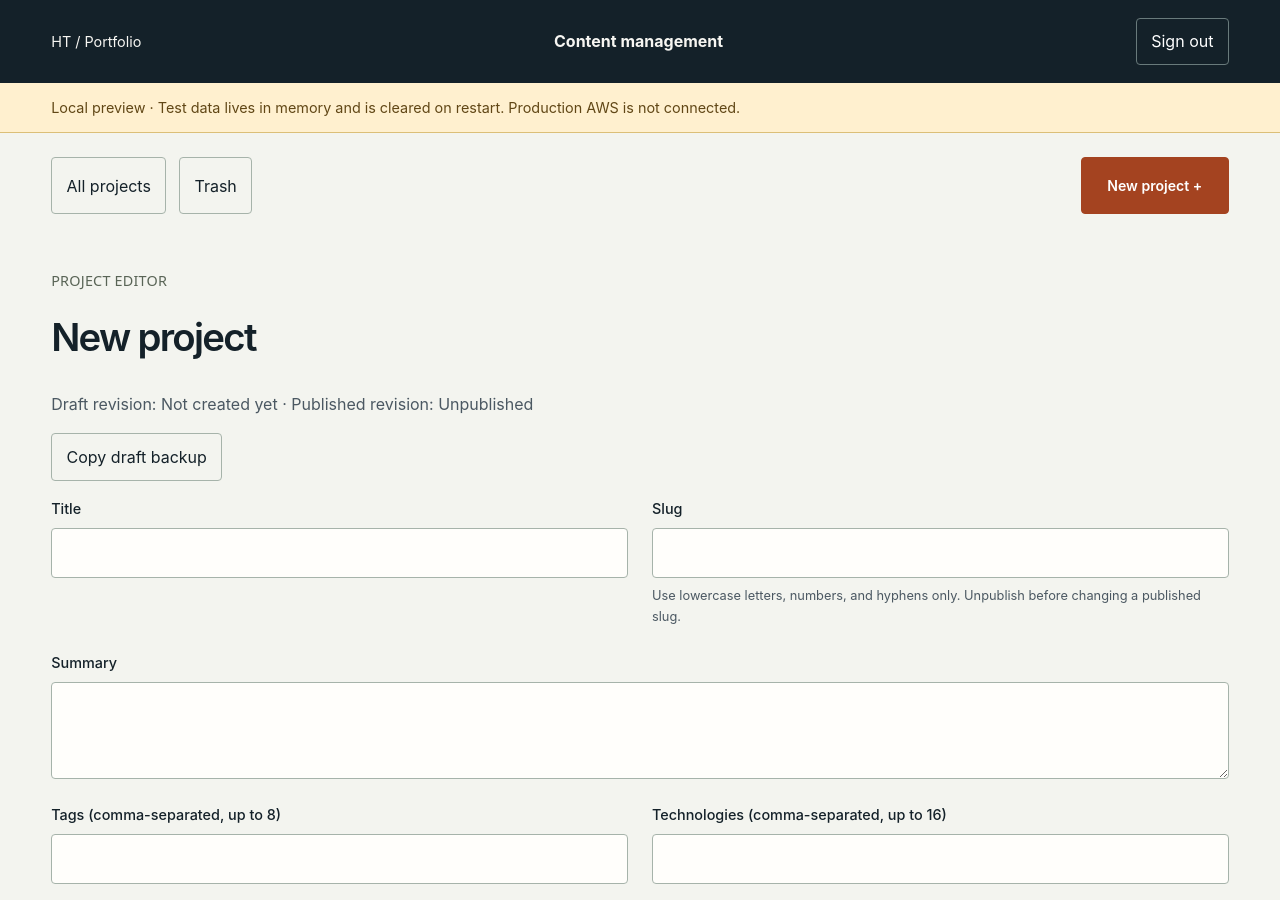
Test: locks fields during an in-flight save
The image size is (1280, 900).
Type "Pending draft" into the field labelled "Title" at (340, 553), box [51,528,628,578]
(page scrolled)
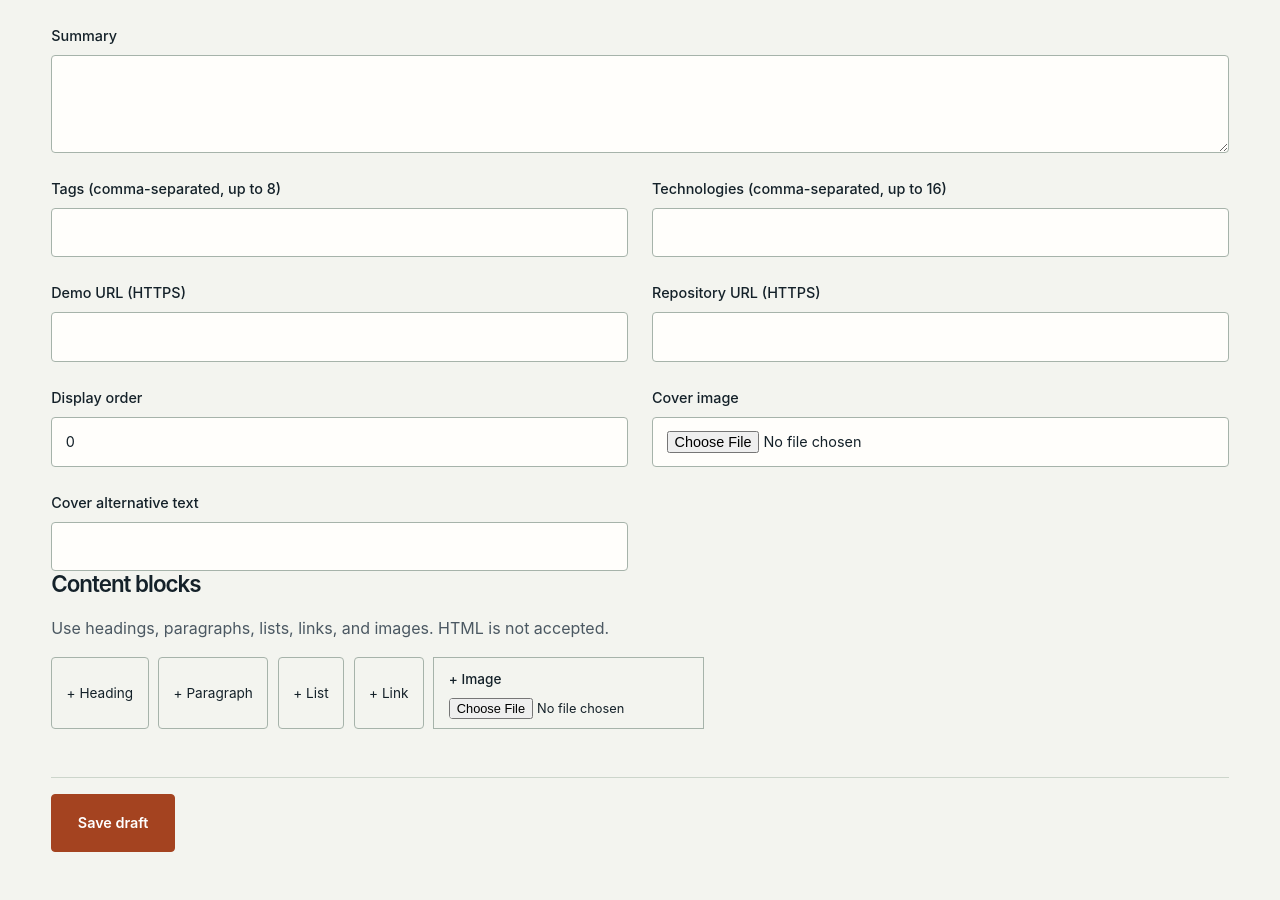
Click the button "Save draft" at (113, 823), box [51,794,175,852]
(page scrolled)
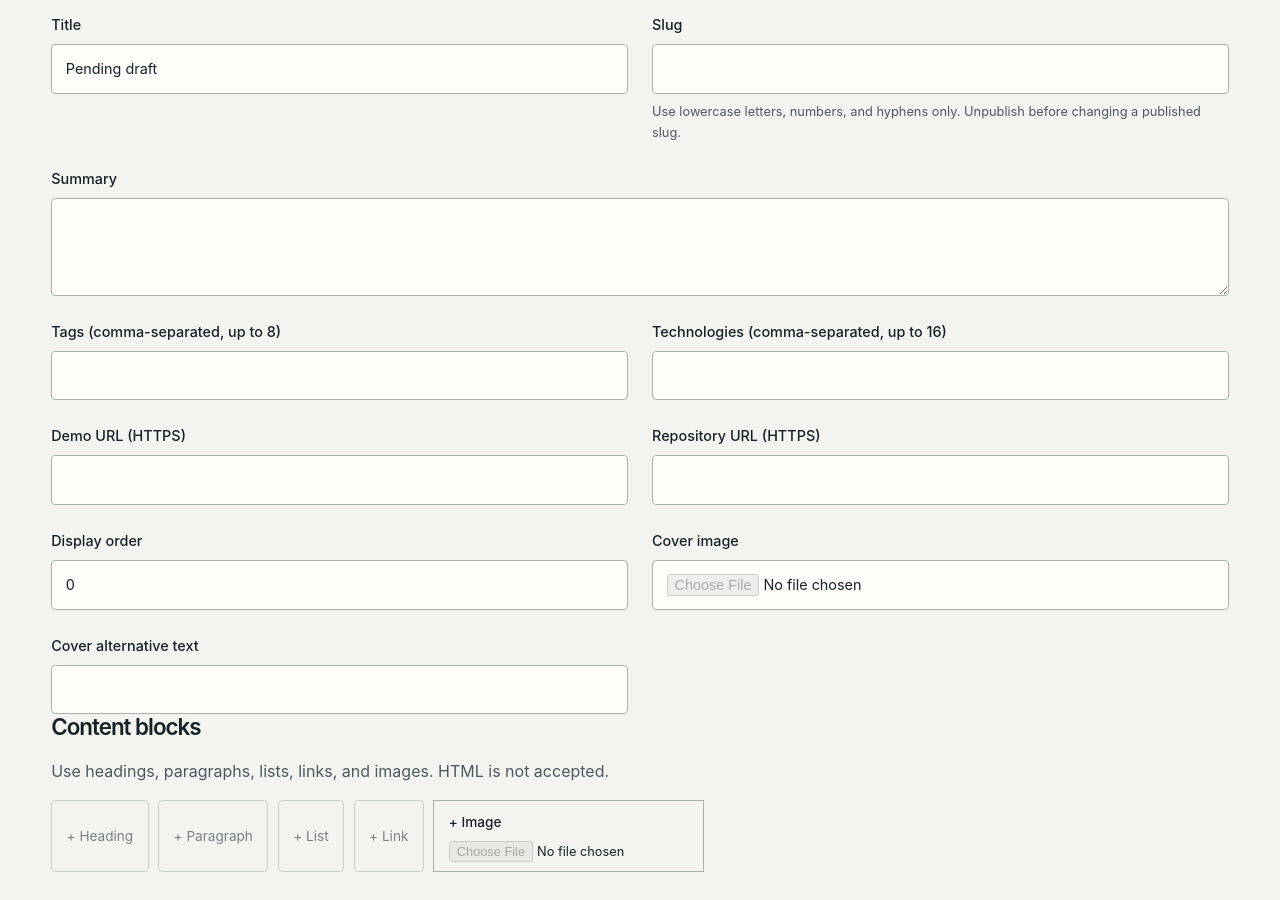
Expected: the element labelled "Title" is disabled
